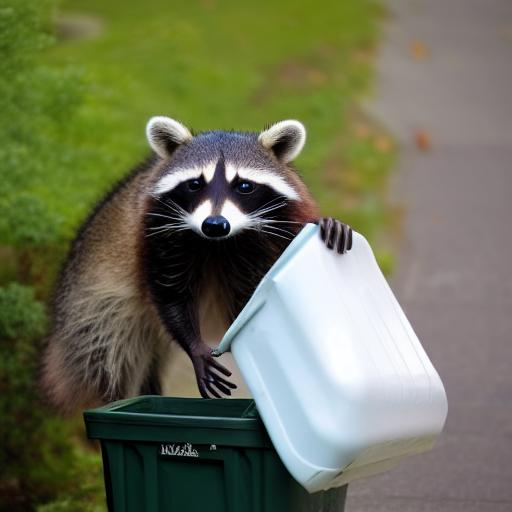raccoon: (33, 110, 322, 417)
